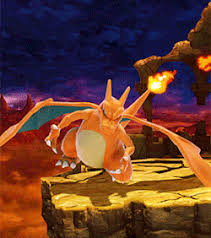charizard: (1, 77, 211, 201)
